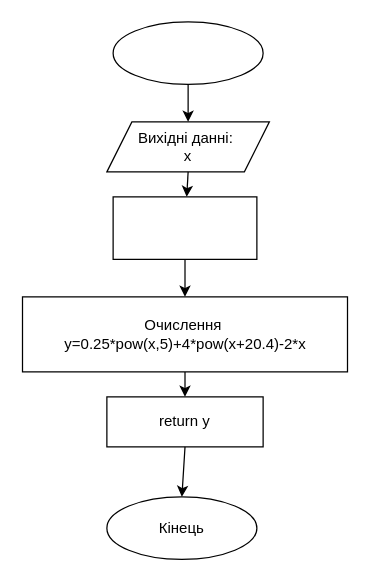
This 369x581 diagram has some shape labels left out. Each missing label, with the box of its shape:
Початок: (112, 21, 263, 84)
Ініціалізація змінних: (112, 196, 257, 259)
